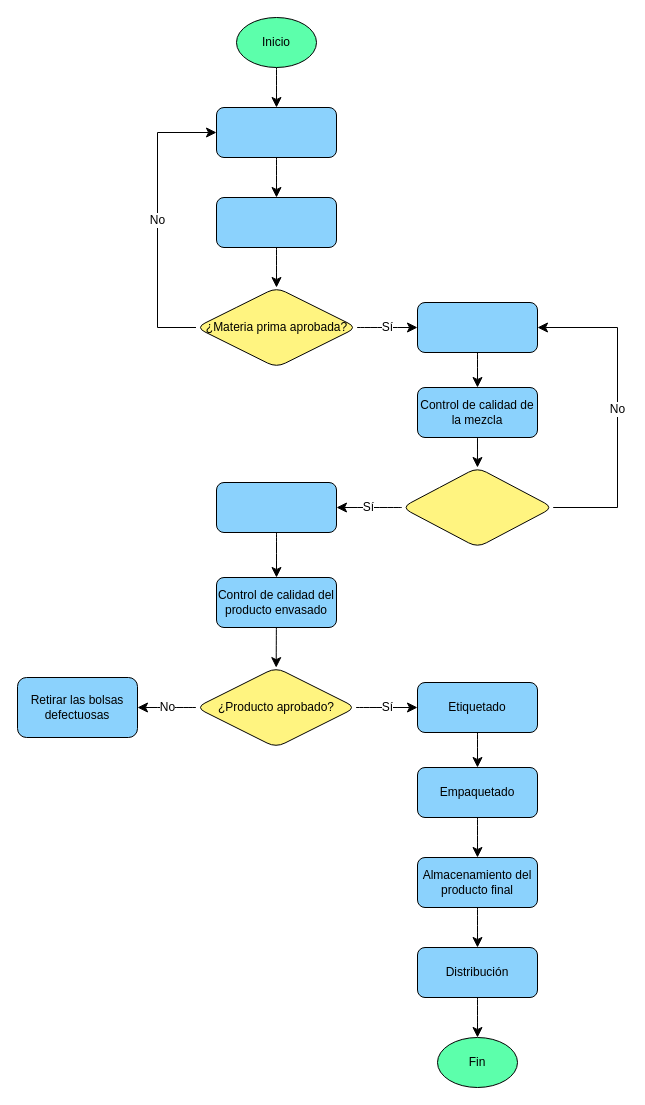
Image size: 645x1105. Some labels were removed from this diagram. Here are the shapes that lost their labels. From the top down, the centre of each, then its label:
point (276, 132): Recepción de materia prima
point (276, 222): Inspección de materia prima
point (477, 327): Preparación de la mezcla
point (276, 507): Envasado
point (477, 507): ¿Mezcla aprobada?
